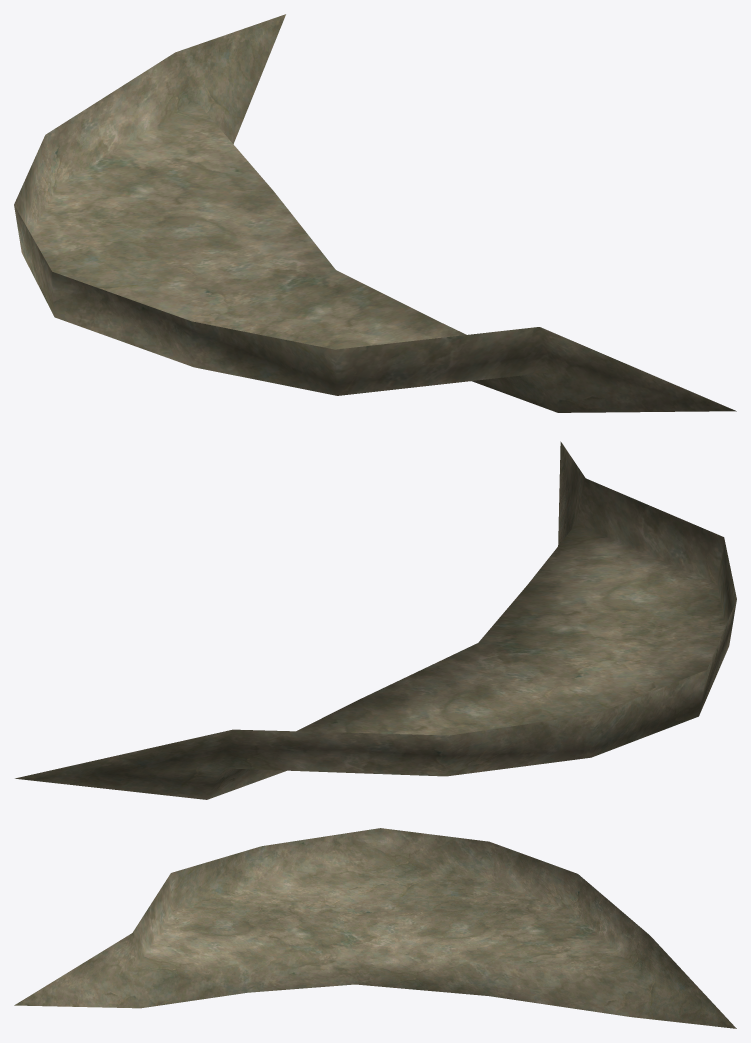
Rendered from EKH_THRONE_PS_TH_PLATFORM_675.fbx.
3 views of the same model, one above another, from view 1: azimuth 30°, elevation 25°; view 2: azimuth 150°, elevation 25°; view 3: azimuth 270°, elevation 25° (orthographic). The views are drawn at different scales.
Parts seen in each view (by area): view 1: EKH_THRONE_PS_TH_PLATFORM_675; view 2: EKH_THRONE_PS_TH_PLATFORM_675; view 3: EKH_THRONE_PS_TH_PLATFORM_675.
Part boxes in pixels (x1=…): EKH_THRONE_PS_TH_PLATFORM_675: x1=14, y1=14, x2=736, y2=412; EKH_THRONE_PS_TH_PLATFORM_675: x1=15, y1=441, x2=736, y2=799; EKH_THRONE_PS_TH_PLATFORM_675: x1=14, y1=828, x2=736, y2=1028.
Bounding box in the file's own units: 33075 × 6218 × 60720.
Materials: 1 (1 with a texture image).
